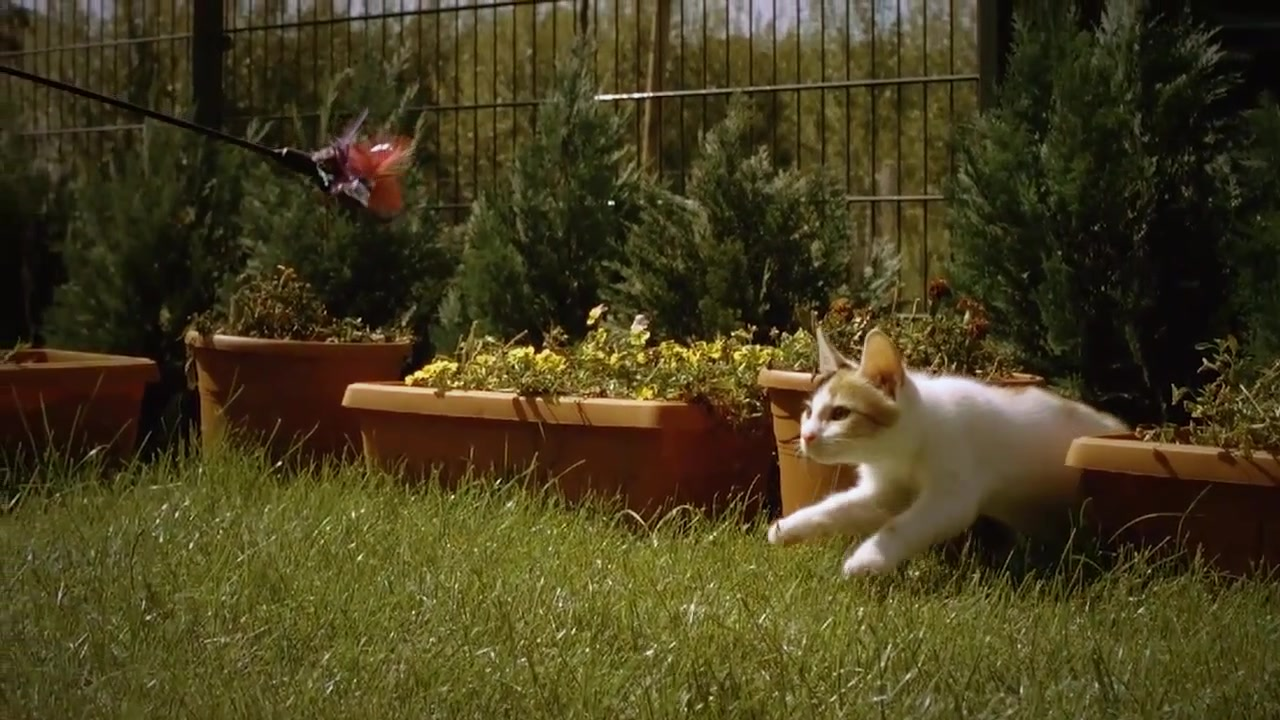cat: (765, 319, 1136, 584)
